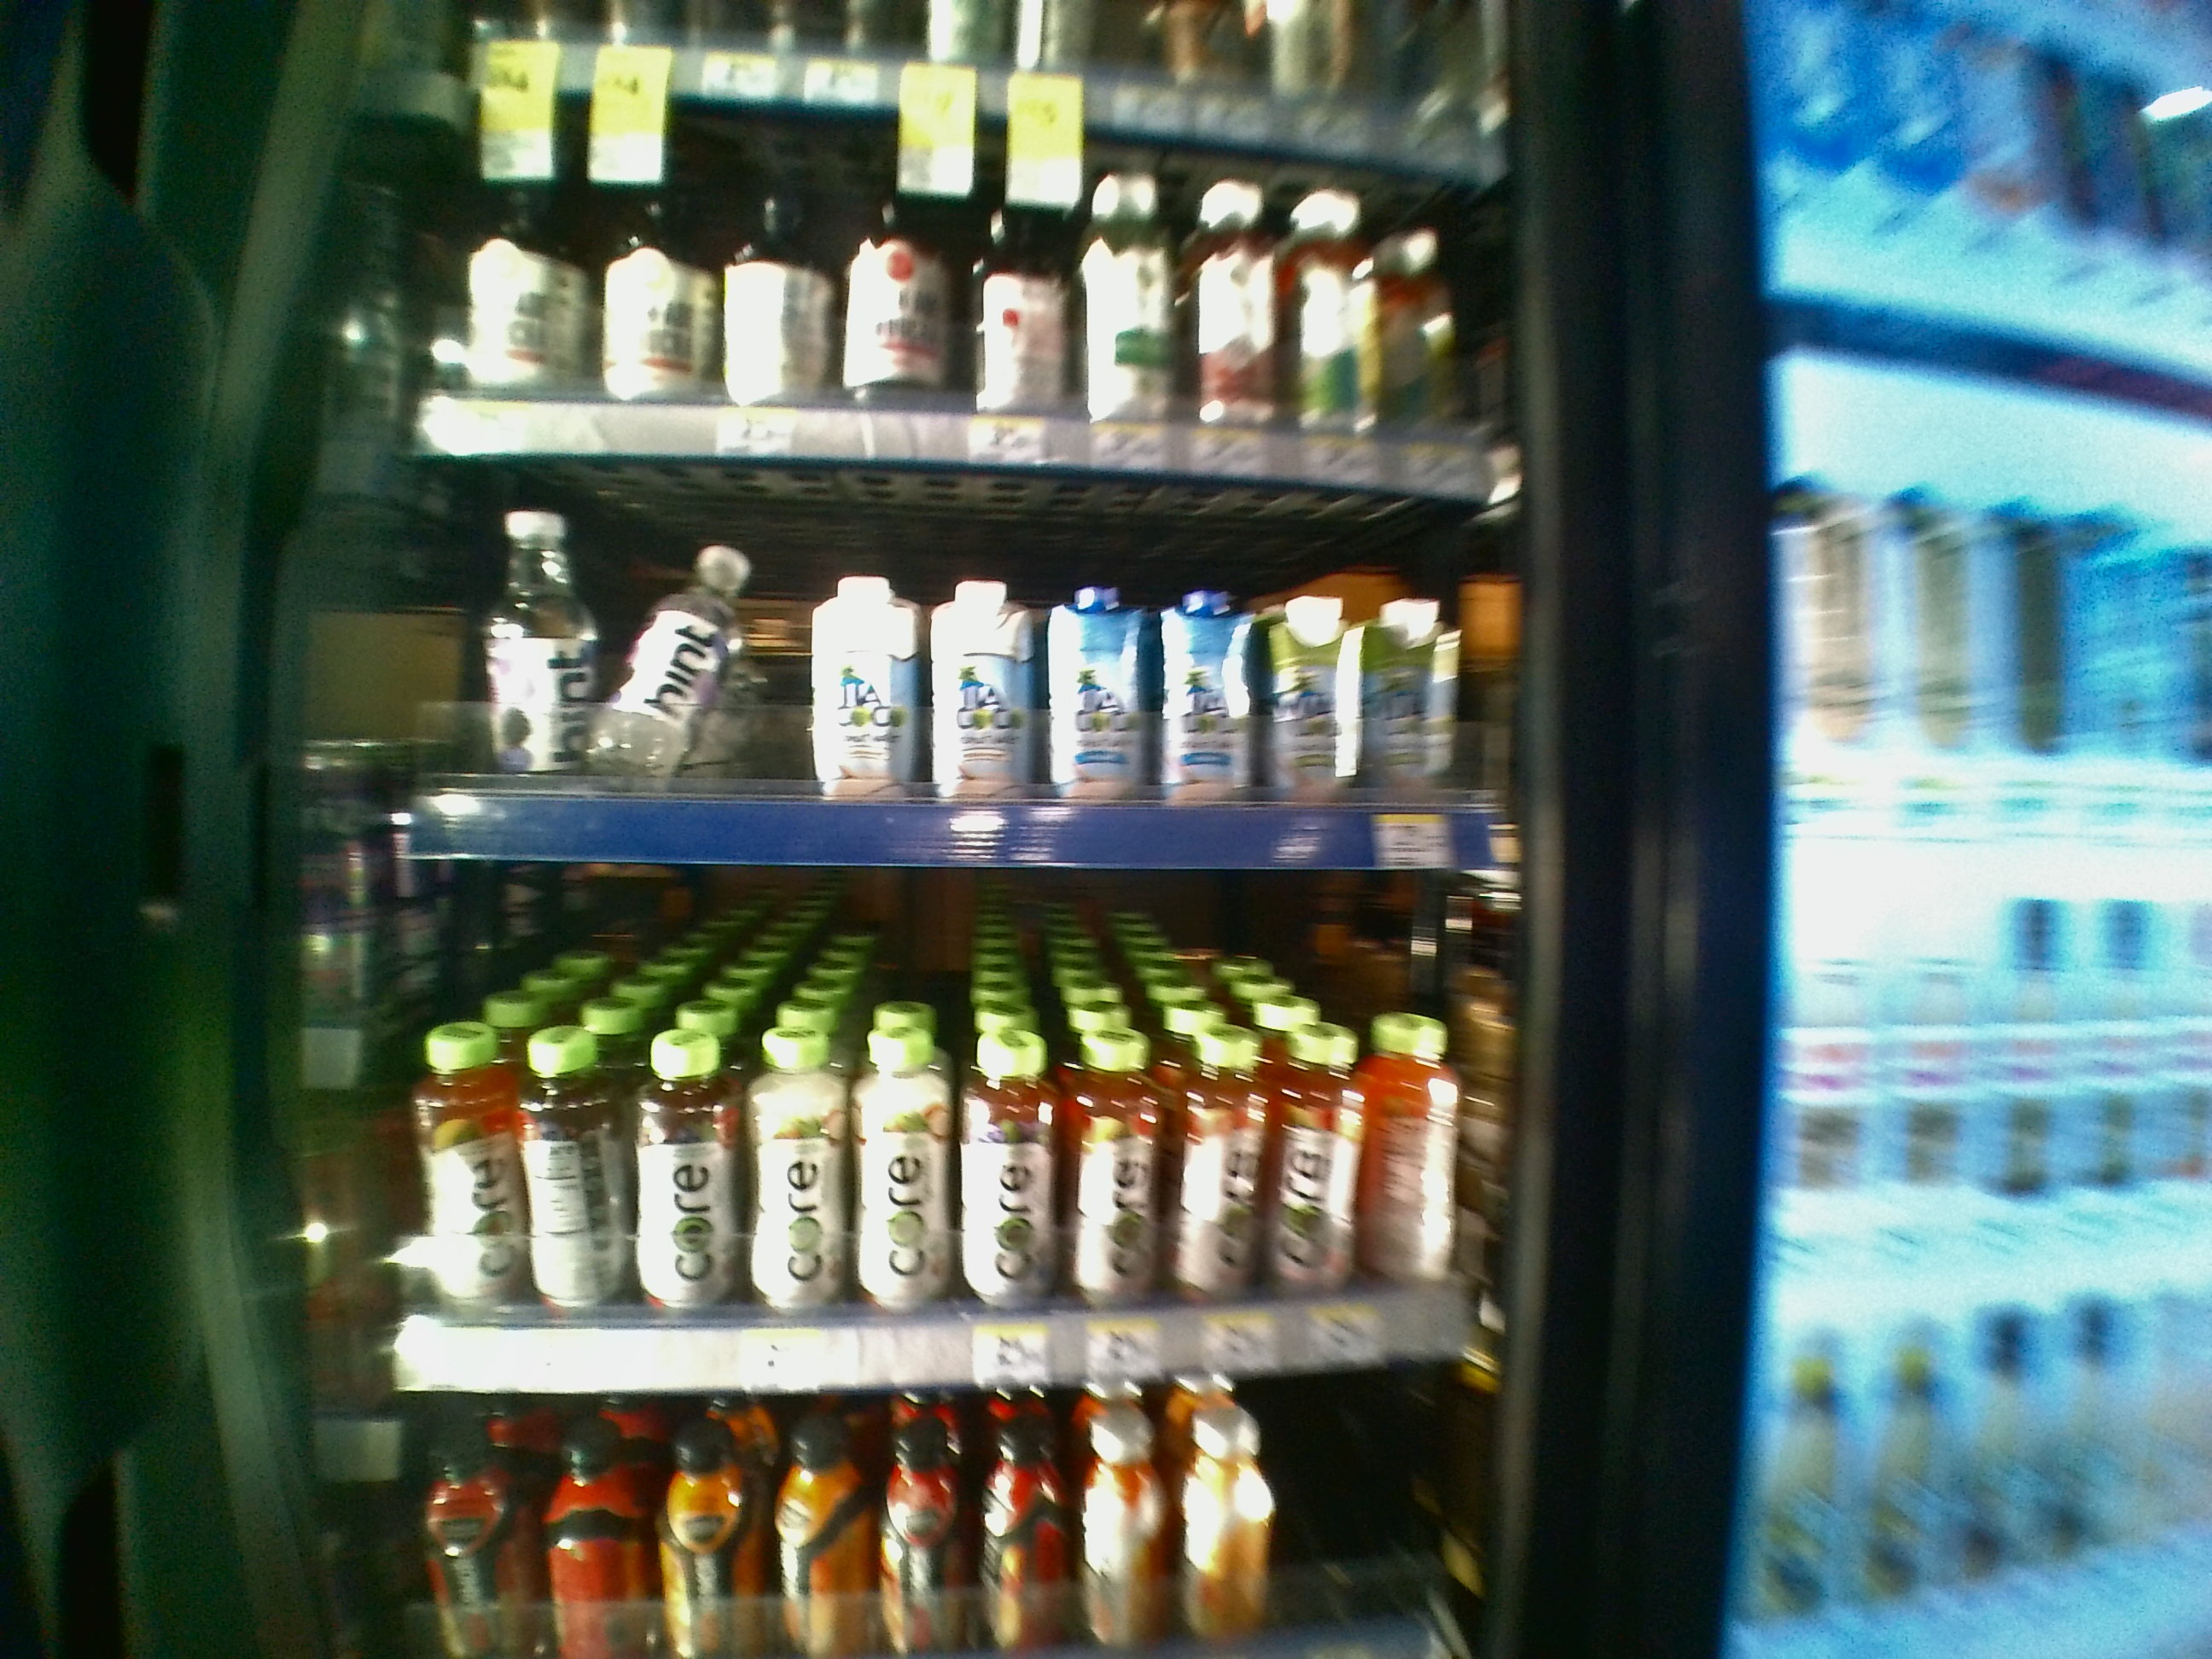shelf: (279, 857, 1552, 1373), (273, 448, 1547, 857)
